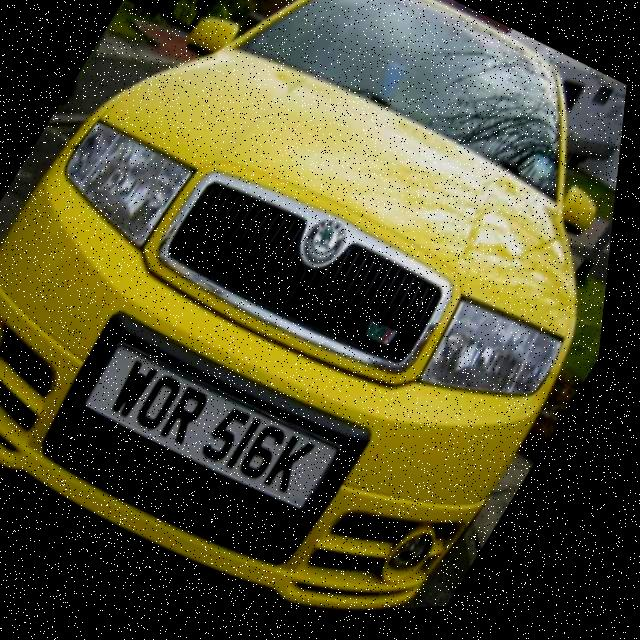license_plate: (100, 345, 340, 516)
